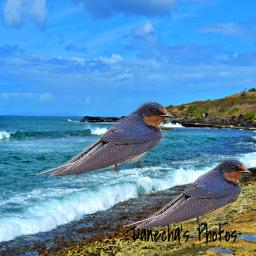Swallow: (35, 100, 174, 179), (122, 157, 252, 231)
